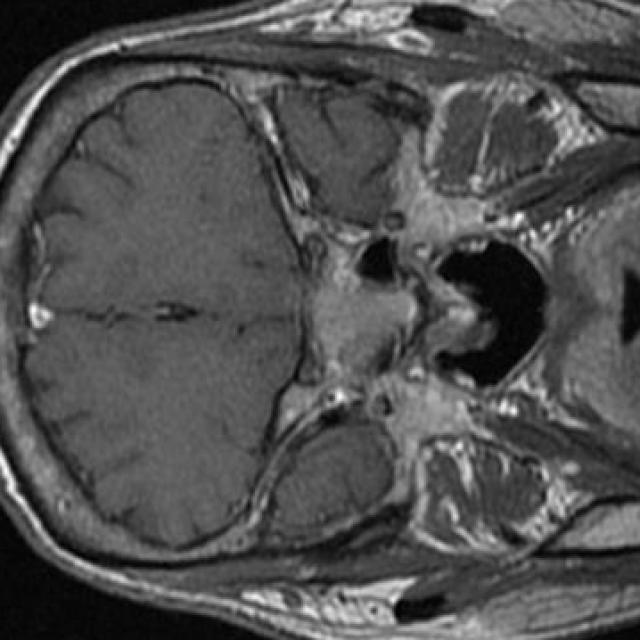pituitary: (314, 248, 410, 374)
